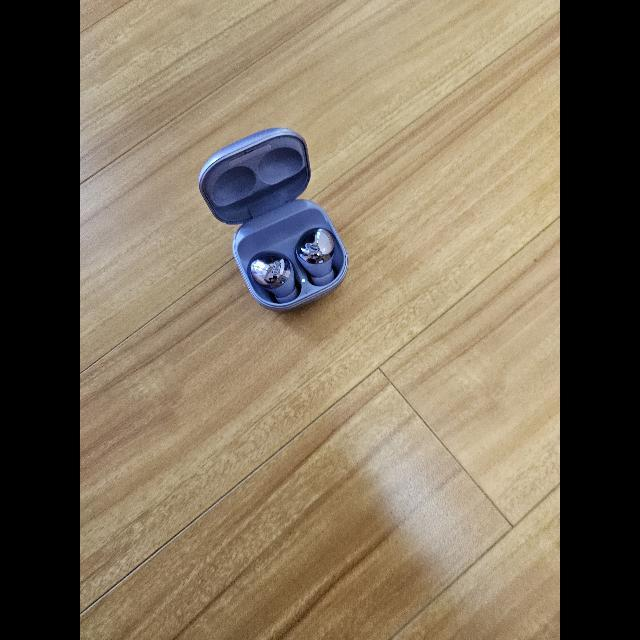buds-pro: (197, 126, 351, 314)
